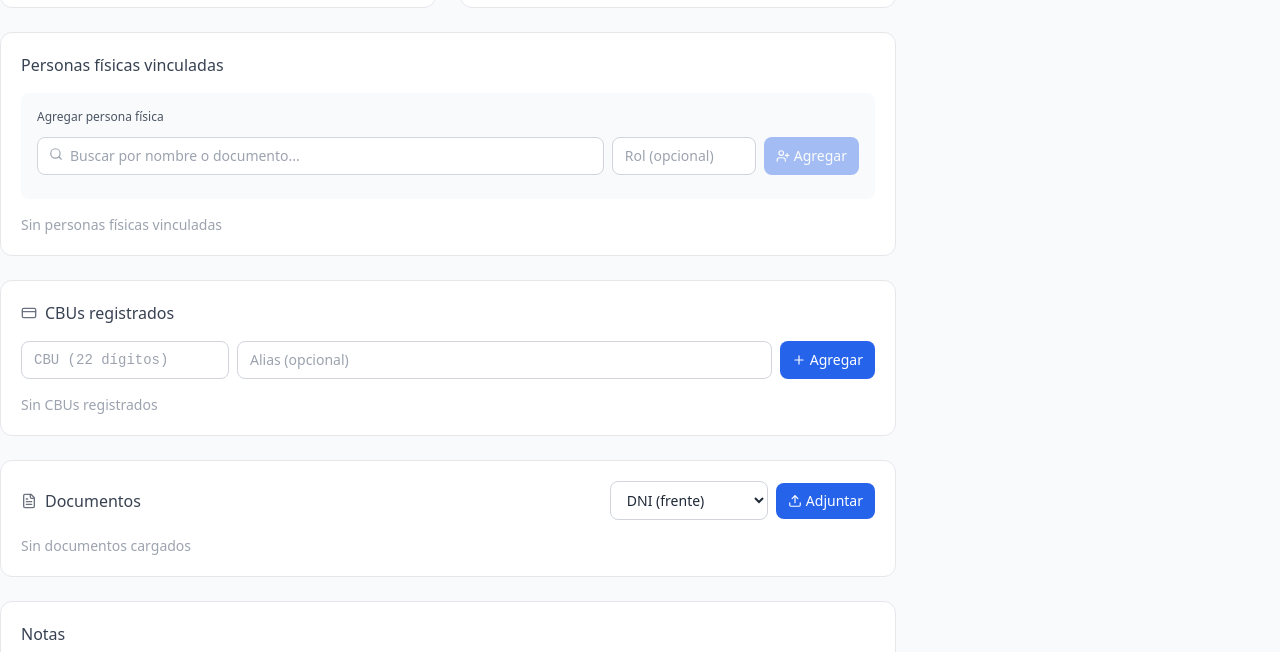
ClienteDetailPage — CBUs (solo persona jurídica) › rechaza un CBU que no tenga 22 dígitos
This screenshot has width=1280, height=652.
(page scrolled)
Step 1. Type "12345" into the field with placeholder "CBU (22 dígitos)" → (125, 360), box [21, 341, 229, 379]
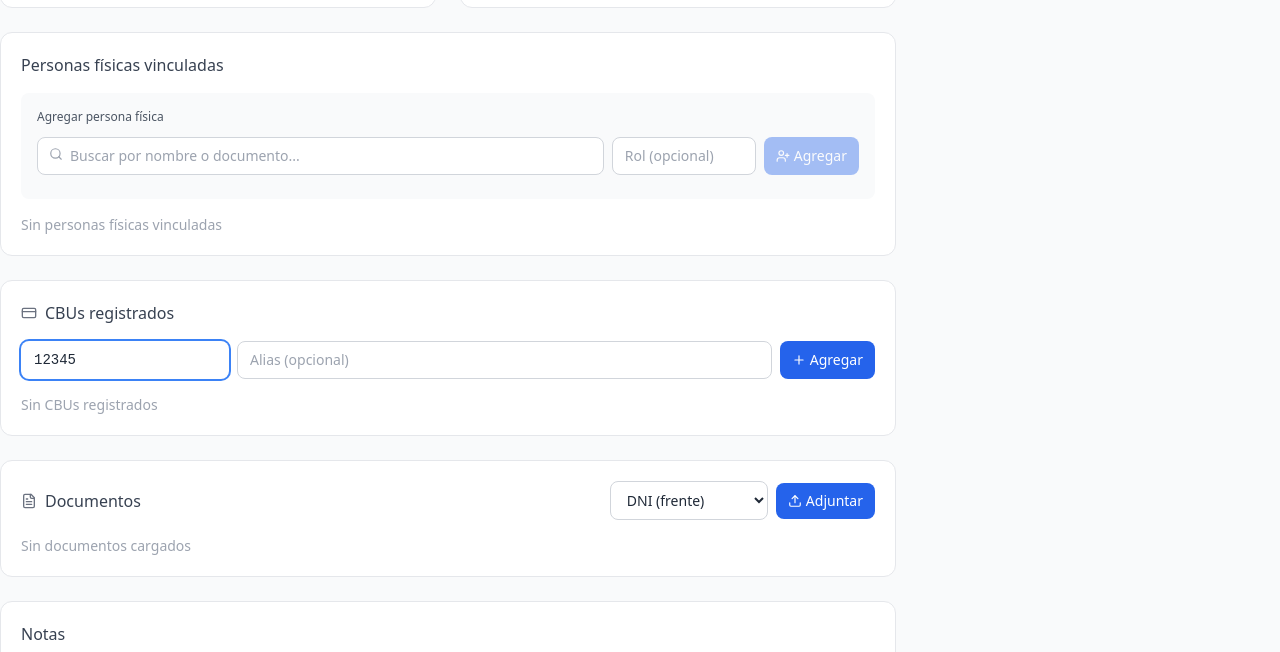
Step 2. Submit the 1st form with placeholder "CBU (22 dígitos)", box [21, 341, 875, 379]
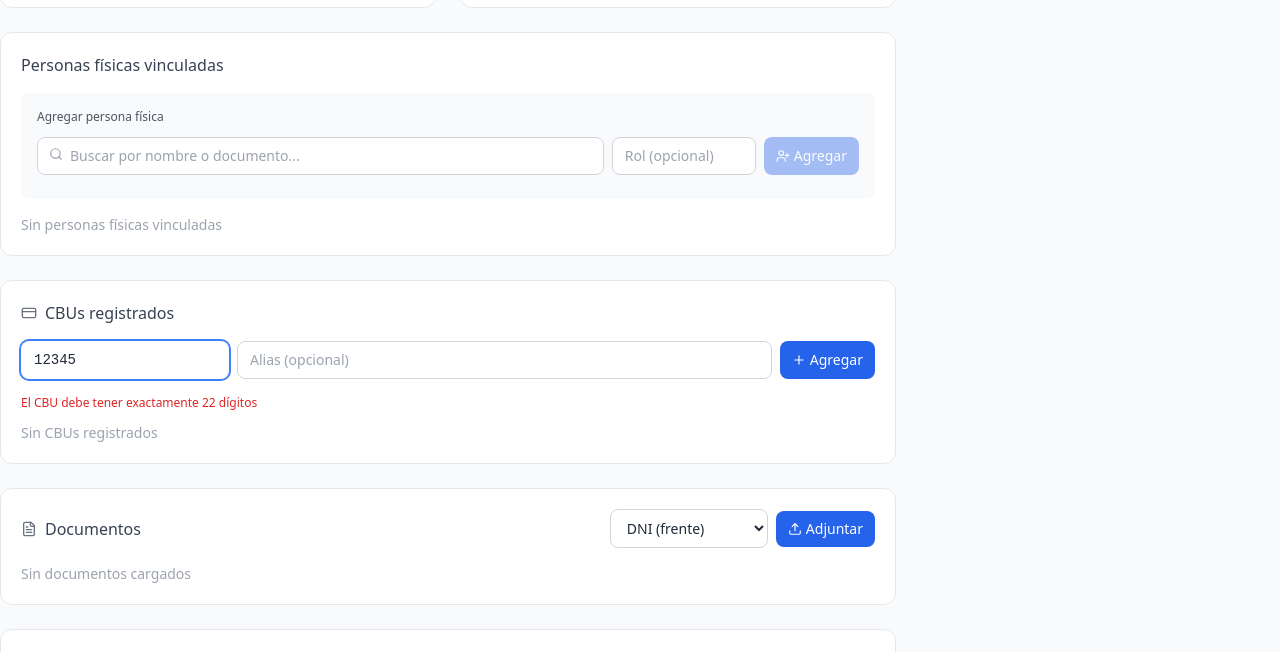
Expected: the text "El CBU debe tener exactamente 22 dígitos" is shown, [21, 394, 257, 411]
